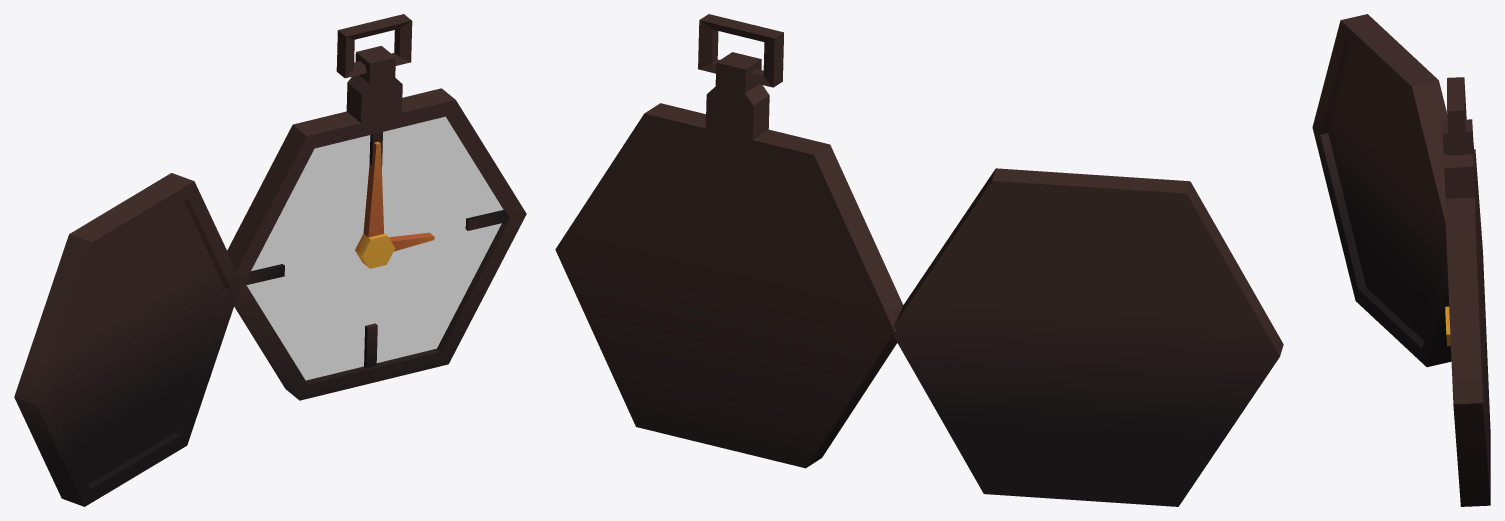
File: Watch02.fbx
The picture shows the model from 3 angles, left to right: view 1: azimuth 30°, elevation 25°; view 2: azimuth 150°, elevation 25°; view 3: azimuth 270°, elevation 25°; orthographic projection. The views are drawn at different scales.
Visible parts, largest first — view 1: Clock02; view 2: Clock02; view 3: Clock02.
Part boxes in pixels (left/top/right/bottom): Clock02: left=14, top=14, right=526, bottom=506; Clock02: left=555, top=14, right=1283, bottom=506; Clock02: left=1312, top=14, right=1490, bottom=506.
Bounding box in the file's own units: 44.01 × 26.99 × 11.49.
Materials: 1 (1 with a texture image).
